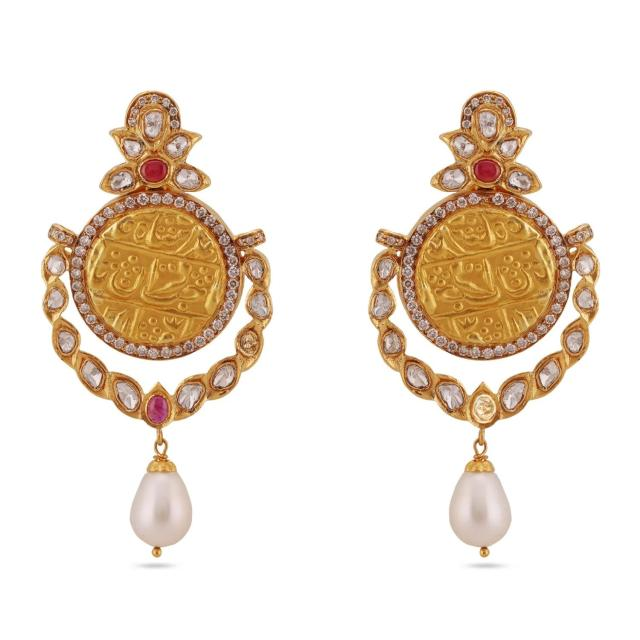missing gem: (473, 394, 496, 421), (241, 331, 258, 354), (483, 193, 491, 203)
